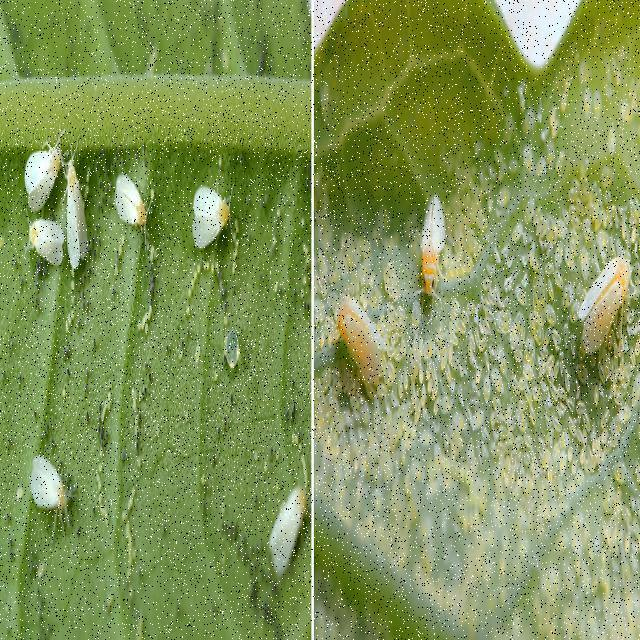Whiteflies: (555, 206, 635, 385), (333, 270, 393, 434), (406, 162, 469, 311), (32, 429, 90, 569), (105, 147, 163, 283), (255, 449, 309, 589), (188, 162, 243, 276), (65, 110, 96, 307), (18, 126, 68, 229), (21, 211, 68, 300)
